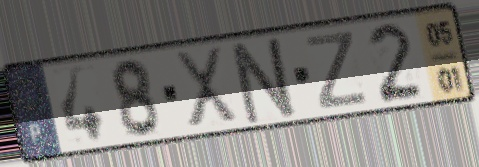2: (365, 20, 429, 107)
4: (62, 63, 110, 145)
8: (111, 56, 161, 139)
N: (229, 33, 302, 128)
X: (172, 43, 242, 130)
Z: (302, 28, 371, 113)
